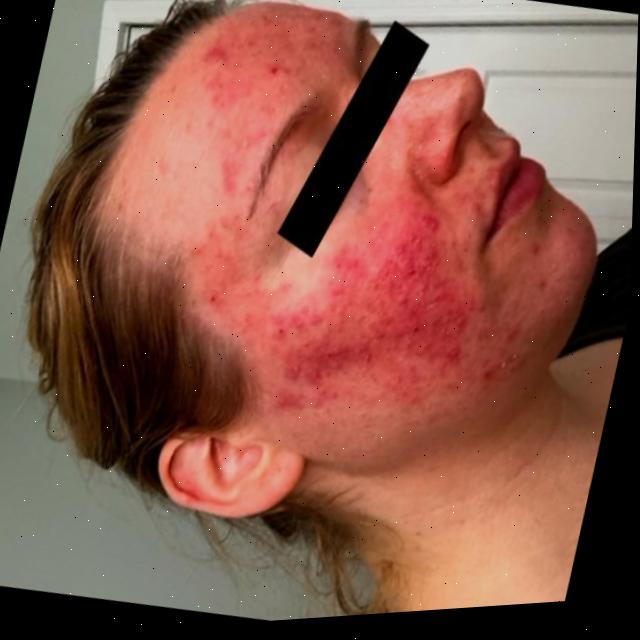Rosacea: (237, 177, 556, 450), (144, 0, 298, 327)
